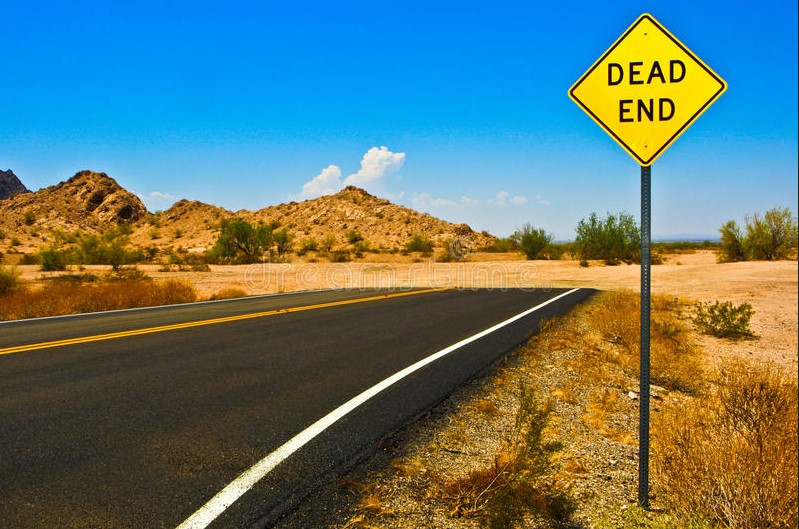Deadend: (568, 8, 727, 165)
